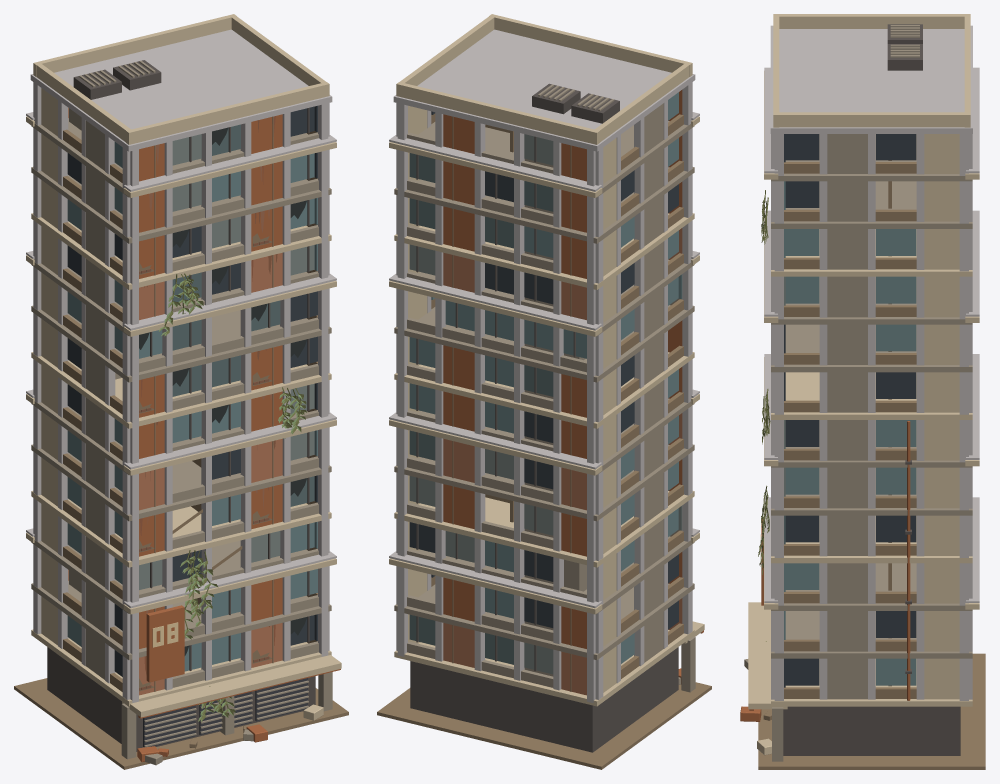
Rendered from 完整高楼.glb.
3 renders of one model, left to right at view 1: azimuth 30°, elevation 25°; view 2: azimuth 150°, elevation 25°; view 3: azimuth 270°, elevation 25°, orthographic. The views are drawn at different scales.
Visible parts, largest first — view 1: Infill, Concrete frame, Roof, Podium, Brise soleil, Overgrowth, Service details, Loose masonry; view 2: Infill, Concrete frame, Roof, Podium, Brise soleil; view 3: Infill, Concrete frame, Roof, Podium, Brise soleil, Service details, Overgrowth, Loose masonry.
Part boxes in pixels (<box>): Infill: <box>41,88,329,702</box>; Concrete frame: <box>31,82,331,706</box>; Roof: <box>30,14,332,151</box>; Podium: <box>14,647,348,769</box>; Brise soleil: <box>26,112,336,614</box>; Overgrowth: <box>159,273,307,721</box>; Service details: <box>146,605,184,682</box>; Loose masonry: <box>137,704,323,765</box>; Infill: <box>397,82,692,702</box>; Concrete frame: <box>394,103,694,706</box>; Roof: <box>393,14,695,151</box>; Podium: <box>377,621,711,769</box>; Brise soleil: <box>389,112,699,614</box>; Infill: <box>771,134,972,700</box>; Concrete frame: <box>771,134,972,706</box>; Roof: <box>770,14,972,133</box>; Podium: <box>748,602,985,769</box>; Brise soleil: <box>764,67,979,609</box>; Service details: <box>760,421,911,700</box>; Overgrowth: <box>758,190,770,641</box>; Loose masonry: <box>740,659,771,755</box>.
Bounding box in the file's own units: 16 × 42.81 × 14.66.
